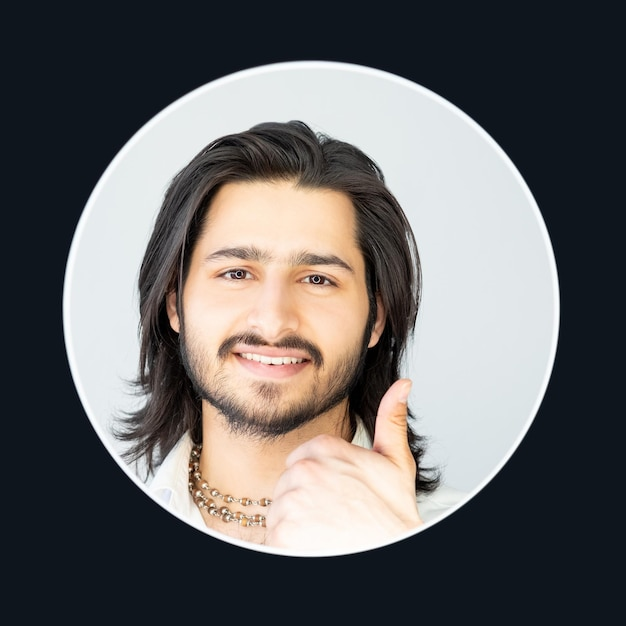young: (160, 141, 413, 451)
